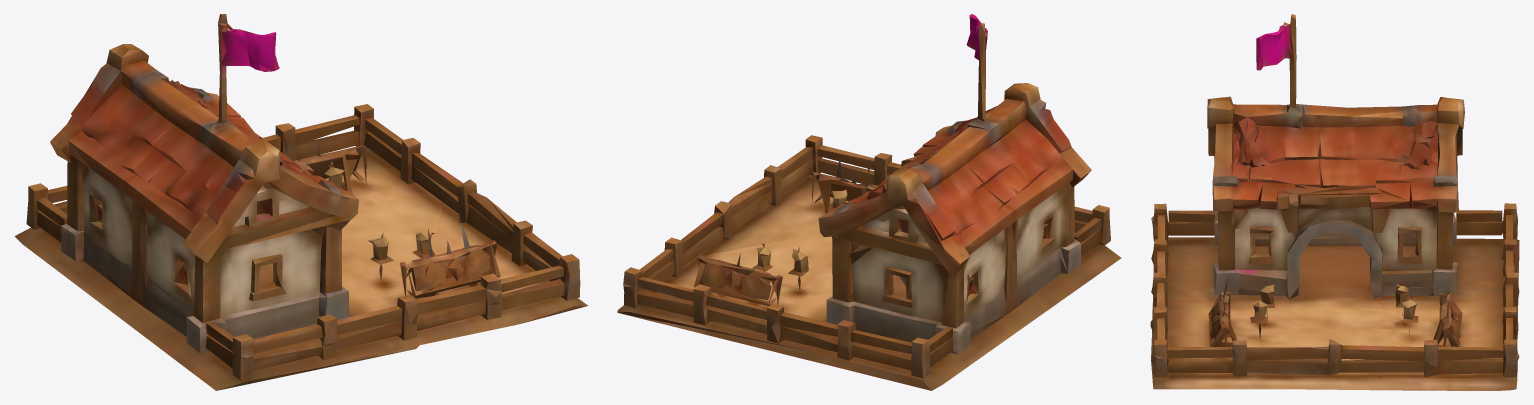
The model's file is barracks.lod2.glb.
3 views of the same model, side by side, from view 1: azimuth 30°, elevation 25°; view 2: azimuth 150°, elevation 25°; view 3: azimuth 270°, elevation 25° (orthographic). The views are drawn at different scales.
Visible parts, largest first — view 1: barracks.lod2_uv; view 2: barracks.lod2_uv; view 3: barracks.lod2_uv.
Part boxes in pixels (left/top/right/bottom): barracks.lod2_uv: left=14, top=14, right=587, bottom=390; barracks.lod2_uv: left=617, top=14, right=1121, bottom=390; barracks.lod2_uv: left=1150, top=14, right=1519, bottom=390.
Bounding box in the file's own units: 1.87 × 1.46 × 1.9.
Materials: 1 (1 with a texture image).
